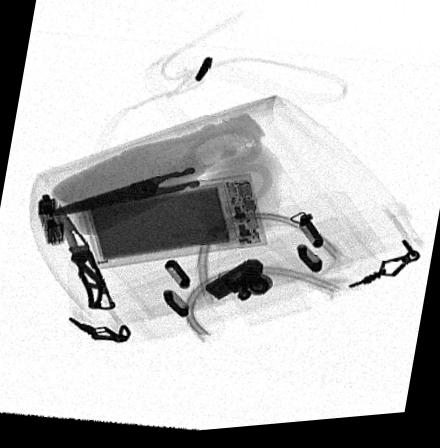Knife: (54, 201, 115, 311)
Powerbank: (79, 176, 269, 271)
Scissors: (41, 133, 273, 216)
